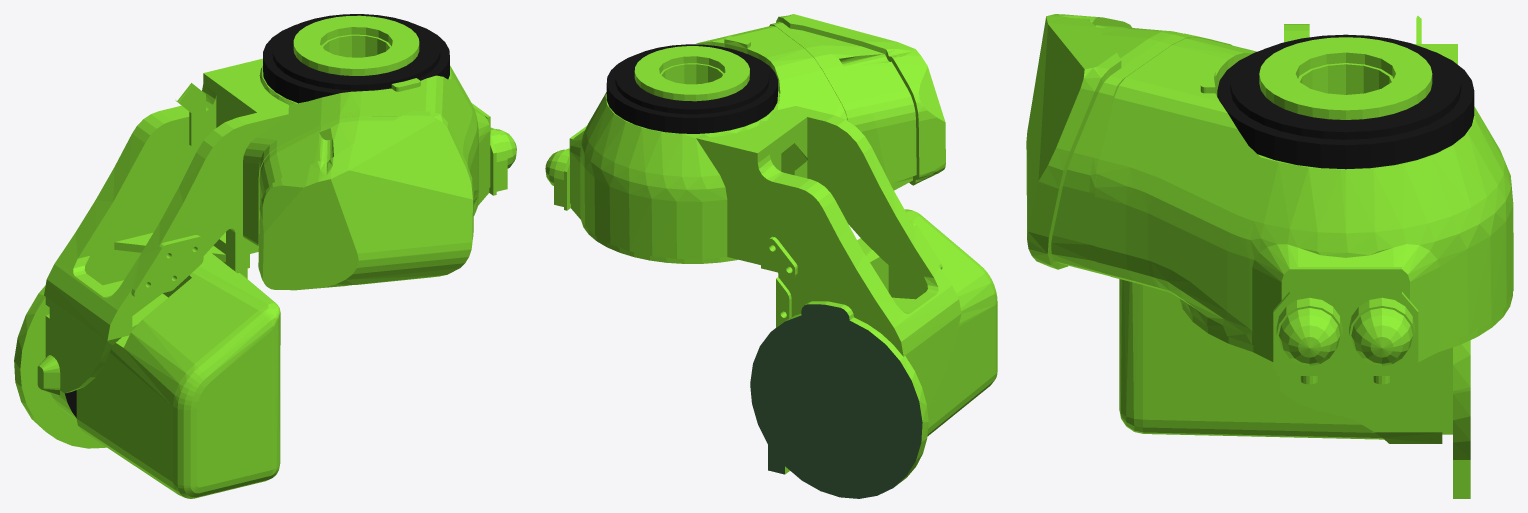
The picture shows the model from 3 angles, left to right: view 1: azimuth 30°, elevation 25°; view 2: azimuth 150°, elevation 25°; view 3: azimuth 270°, elevation 25°; orthographic projection. The views are drawn at different scales.
Visible parts, largest first — view 1: node; view 2: node; view 3: node.
Part boxes in pixels (bbox=[...]): node: bbox=[14, 14, 516, 498]; node: bbox=[545, 14, 997, 498]; node: bbox=[1026, 14, 1513, 498].
Size of the model in its own units: 424 by 351 by 296.
